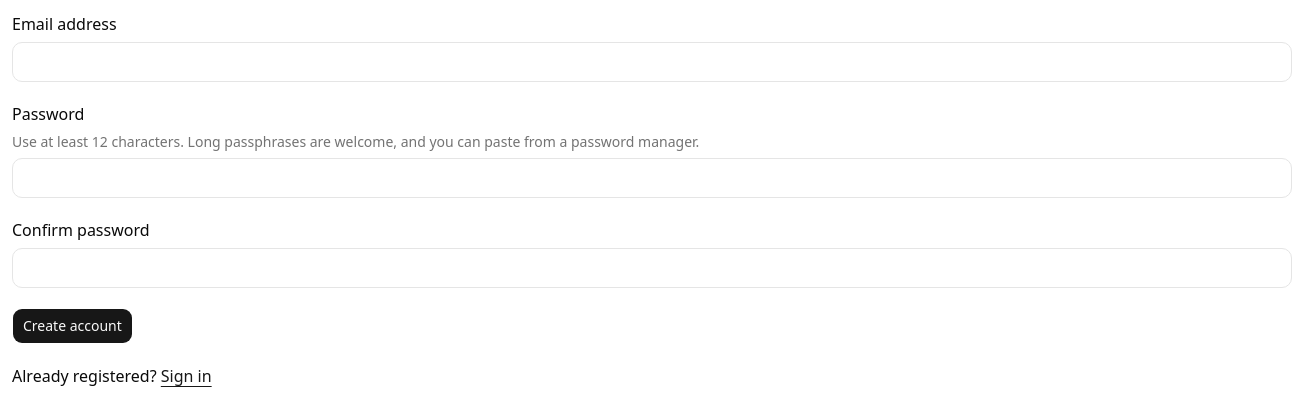
Test case: RegisterForm › shows a generic confirmation after submission
Click the button "Create account": [72, 326] box [12,308,133,344]
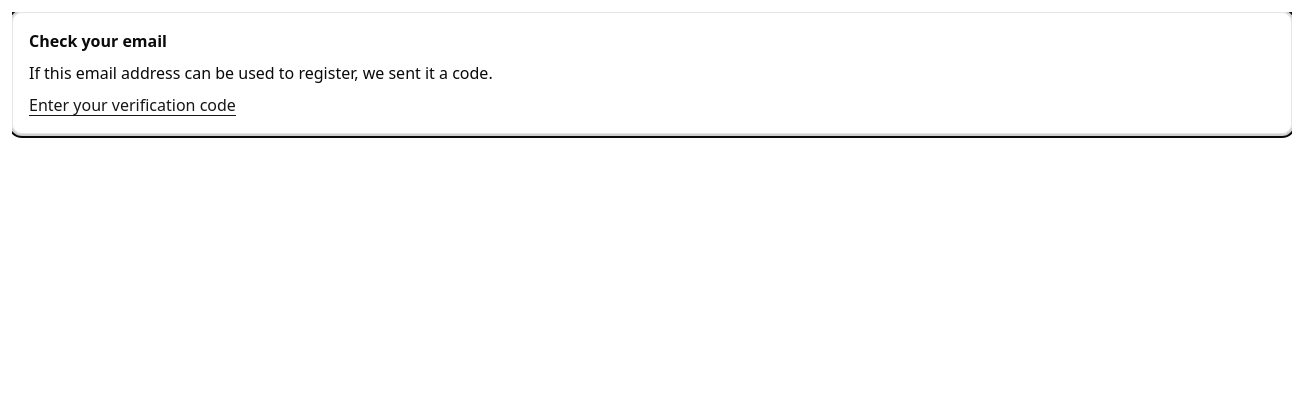
Expected: the message shows "Check your email", [29,30,167,52]
